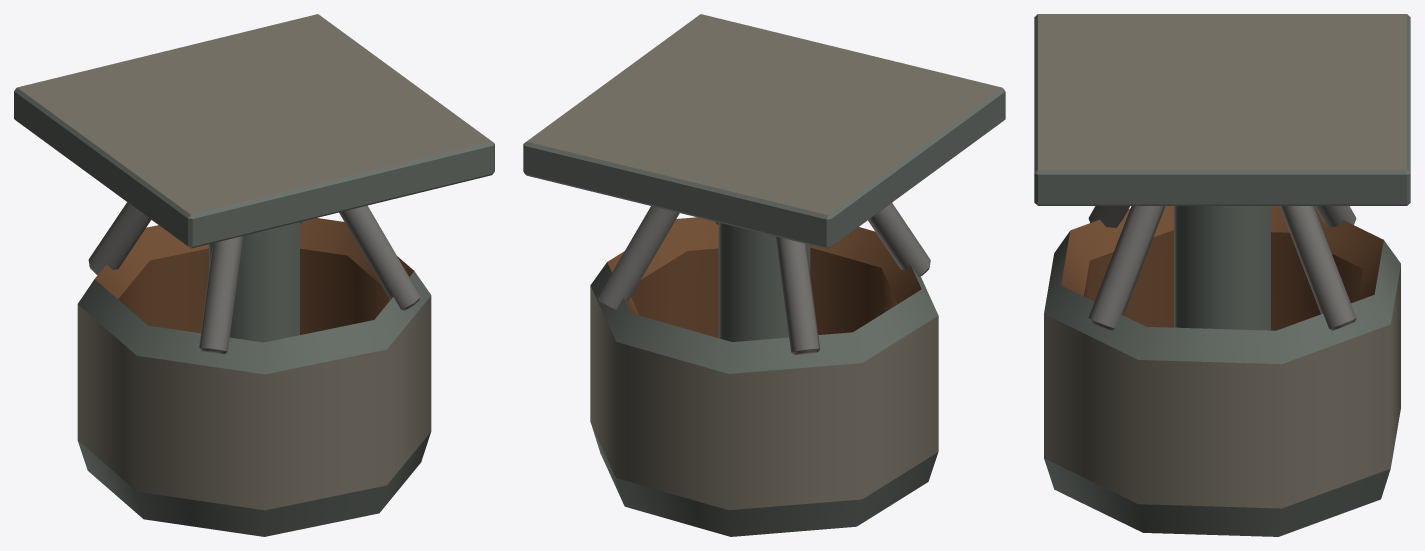
Rendered from R4M_HoverEngine_LOD1.fbx.
3 views of the same model, side by side, from view 1: azimuth 30°, elevation 25°; view 2: azimuth 150°, elevation 25°; view 3: azimuth 270°, elevation 25° (orthographic). The views are drawn at different scales.
Visible parts, largest first — view 1: R4M_HoverEngine_LOD1; view 2: R4M_HoverEngine_LOD1; view 3: R4M_HoverEngine_LOD1.
Part boxes in pixels (box(x1,y1,x2,y2)): R4M_HoverEngine_LOD1: box(14, 14, 494, 536); R4M_HoverEngine_LOD1: box(523, 14, 1005, 536); R4M_HoverEngine_LOD1: box(1034, 14, 1410, 536).
Bounding box in the file's own units: 0.52 × 0.577 × 0.52.
